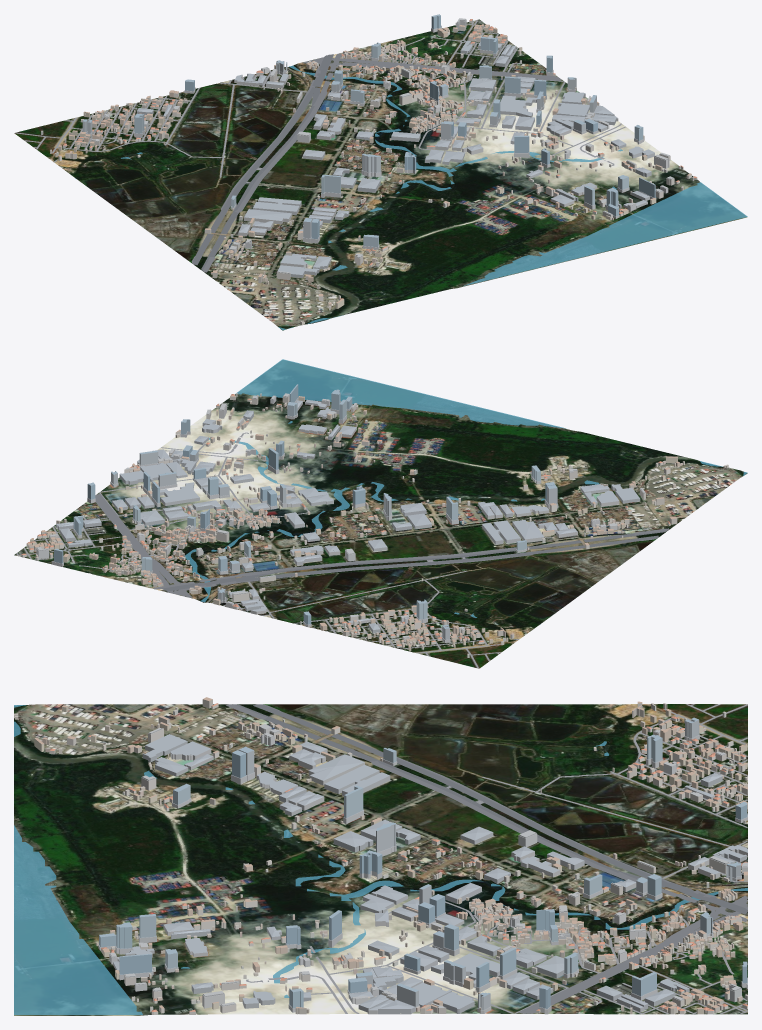
3 views of the same model, one above another, from view 1: azimuth 30°, elevation 25°; view 2: azimuth 150°, elevation 25°; view 3: azimuth 270°, elevation 25° (orthographic). The views are drawn at different scales.
Visible parts, largest first — view 1: TERRAIN, BLDG_INDUSTRIAL_PORT, BLDG_SHOPHOUSE_VILLA, ROAD_METRO, BLDG_MODERN_TOWER, WATER, BLDG_TUBE_HOUSE, BLDG_APARTMENT; view 2: TERRAIN, BLDG_INDUSTRIAL_PORT, BLDG_SHOPHOUSE_VILLA, ROAD_METRO, WATER, BLDG_MODERN_TOWER, BLDG_TUBE_HOUSE, BLDG_APARTMENT; view 3: TERRAIN, BLDG_INDUSTRIAL_PORT, BLDG_SHOPHOUSE_VILLA, BLDG_MODERN_TOWER, WATER, ROAD_METRO, BLDG_TUBE_HOUSE, BLDG_APARTMENT.
Boxes of the visible parts, x1,y1,x2,y2 form: TERRAIN: (14, 19, 747, 330); BLDG_INDUSTRIAL_PORT: (137, 40, 654, 278); BLDG_SHOPHOUSE_VILLA: (58, 19, 697, 314); ROAD_METRO: (15, 20, 626, 272); BLDG_MODERN_TOWER: (82, 14, 655, 249); WATER: (75, 65, 747, 330); BLDG_TUBE_HOUSE: (41, 22, 693, 325); BLDG_APARTMENT: (91, 18, 674, 279); TERRAIN: (14, 360, 747, 668); BLDG_INDUSTRIAL_PORT: (56, 399, 640, 633); BLDG_SHOPHOUSE_VILLA: (21, 394, 721, 651); ROAD_METRO: (16, 432, 668, 668); WATER: (184, 359, 747, 624); BLDG_MODERN_TOWER: (51, 384, 558, 642); BLDG_TUBE_HOUSE: (32, 393, 728, 657); BLDG_APARTMENT: (36, 393, 645, 642); TERRAIN: (14, 704, 747, 1015); BLDG_INDUSTRIAL_PORT: (113, 734, 747, 1014); BLDG_SHOPHOUSE_VILLA: (34, 697, 747, 1014); BLDG_MODERN_TOWER: (98, 717, 747, 1014); WATER: (14, 705, 747, 1014); ROAD_METRO: (226, 704, 747, 1013); BLDG_TUBE_HOUSE: (14, 703, 747, 1014); BLDG_APARTMENT: (109, 724, 747, 1013).
Bounding box in the file's own units: 2000 × 89.88 × 2000.
8 materials, 1 textured.
